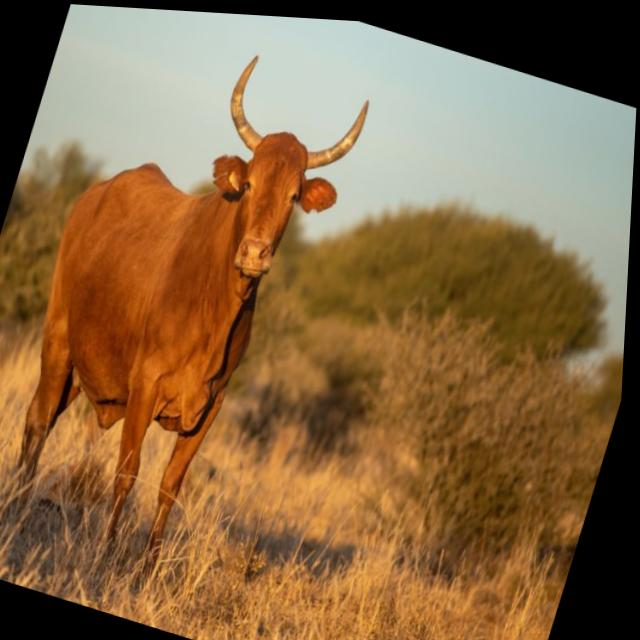cowFace: (181, 48, 383, 299)
